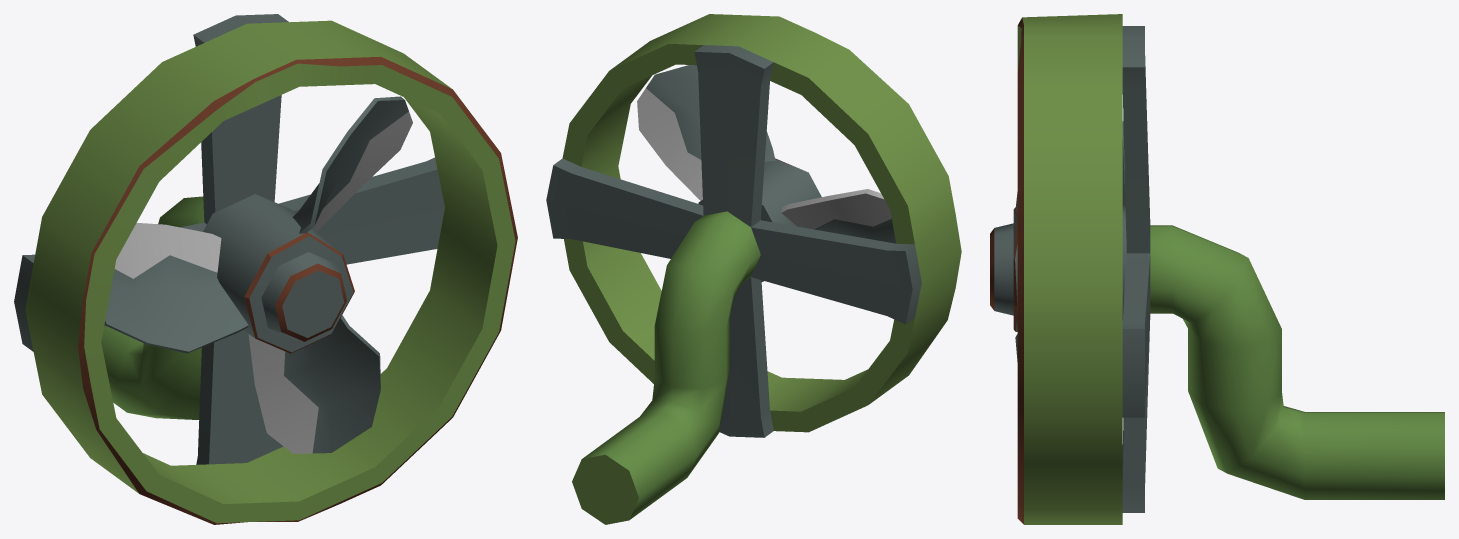
File: Propeller.fbx
3 views of the same model, side by side, from view 1: azimuth 30°, elevation 25°; view 2: azimuth 150°, elevation 25°; view 3: azimuth 270°, elevation 25° (orthographic). The views are drawn at different scales.
Visible parts, largest first — view 1: Propeller_Support, Propeller_Blades; view 2: Propeller_Support, Propeller_Blades; view 3: Propeller_Support, Propeller_Blades.
Boxes of the visible parts, x1=… form: Propeller_Support: x1=14, y1=14, x2=517, y2=524; Propeller_Blades: x1=104, y1=96, x2=412, y2=453; Propeller_Support: x1=546, y1=14, x2=961, y2=524; Propeller_Blades: x1=637, y1=65, x2=895, y2=282; Propeller_Support: x1=1017, y1=14, x2=1444, y2=524; Propeller_Blades: x1=990, y1=192, x2=1126, y2=361.
Bounding box in the file's own units: 91.42 × 91.42 × 81.27.
